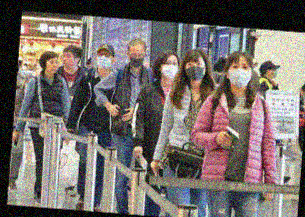with_mask: (228, 61, 252, 88), (184, 59, 206, 82), (160, 57, 178, 80), (95, 50, 112, 69), (127, 52, 145, 69), (269, 66, 278, 78)
without_mask: (45, 58, 59, 74), (60, 52, 72, 68)
